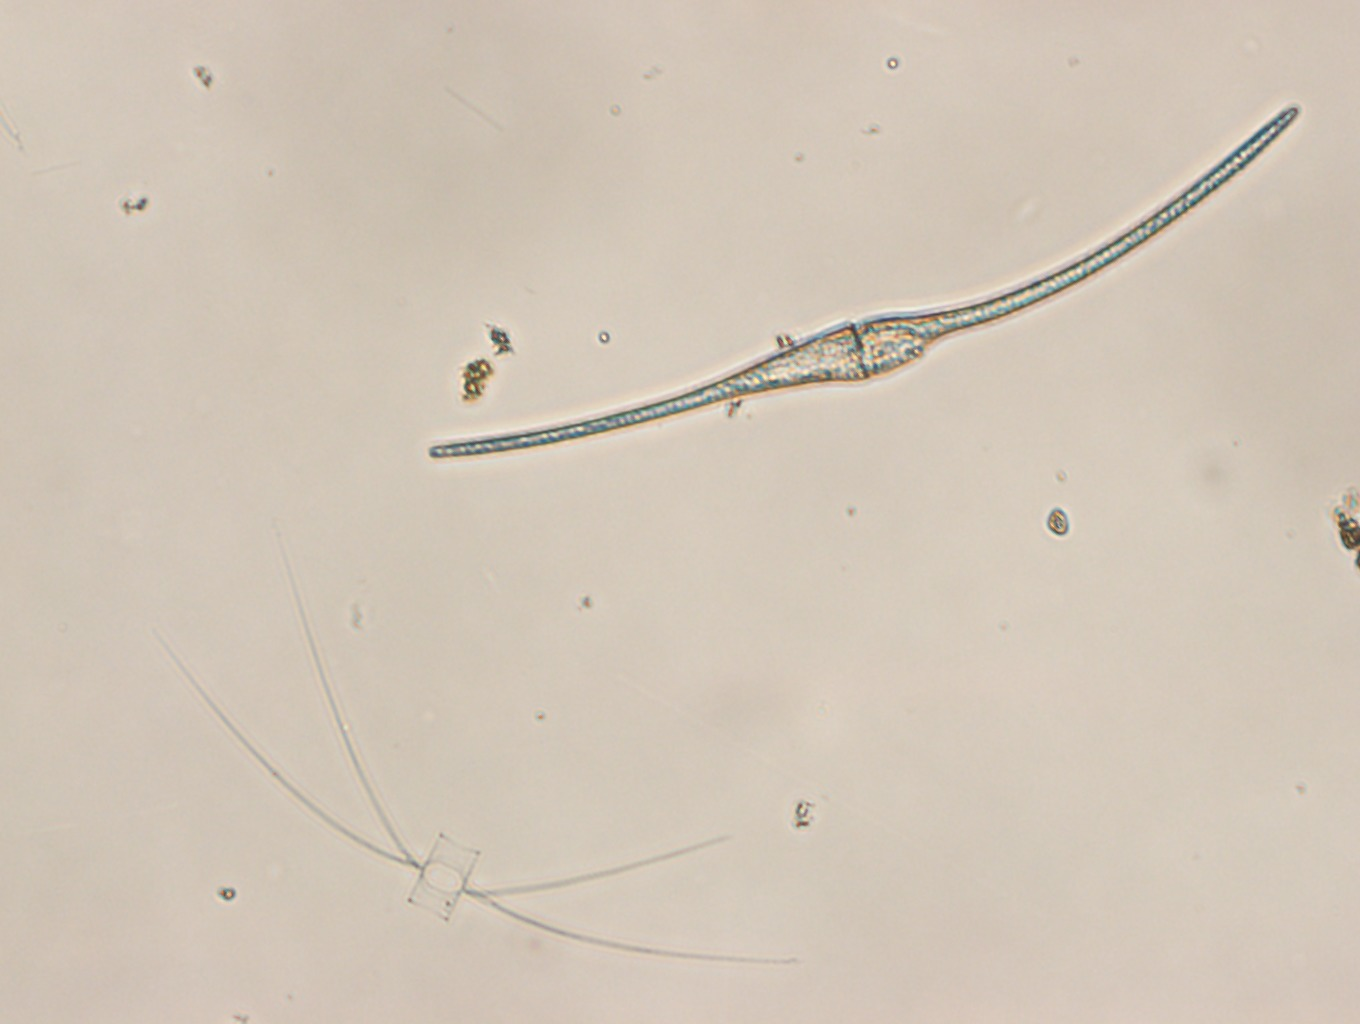ceratium fusus: (427, 104, 1305, 460)
chaetoceros: (151, 515, 803, 967)
